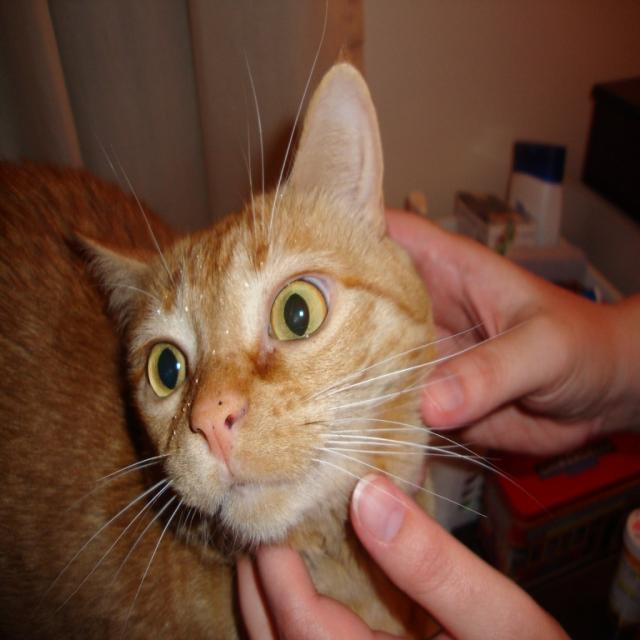Left_ear: (287, 52, 387, 228)
Left_eye: (259, 275, 338, 351), (192, 397, 243, 462)
Right_ear: (71, 230, 164, 325)
Right_eye: (144, 338, 189, 406)
